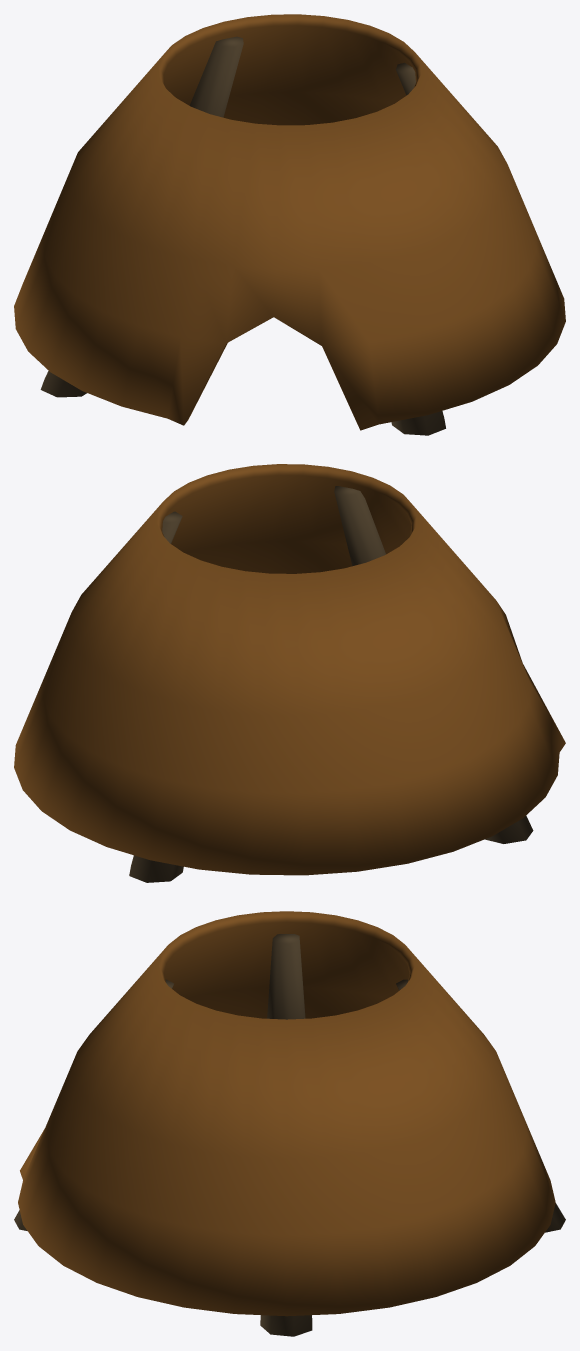
File: laavu1.fbx
3 renders of one model, top to bottom at view 1: azimuth 30°, elevation 25°; view 2: azimuth 150°, elevation 25°; view 3: azimuth 270°, elevation 25°, orthographic. The views are drawn at different scales.
Visible parts, largest first — view 1: Circle; view 2: Circle; view 3: Circle.
Part boxes in pixels (x1,y1,x2,y2): Circle: (14, 14, 565, 435); Circle: (14, 464, 565, 882); Circle: (14, 911, 565, 1336).
Bounding box in the file's own units: 10.04 × 5.14 × 10.07.
